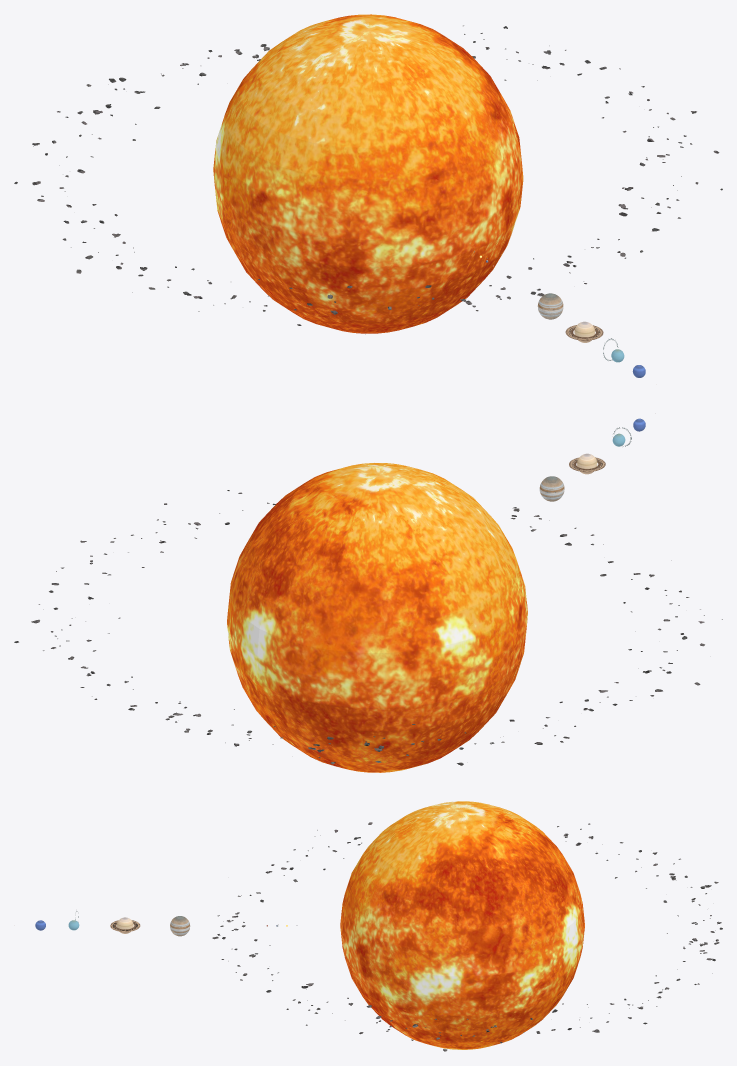
Rendered from solar_system.glb.
3 views of the same model, one above another, from view 1: azimuth 30°, elevation 25°; view 2: azimuth 150°, elevation 25°; view 3: azimuth 270°, elevation 25° (orthographic). The views are drawn at different scales.
Parts seen in each view (by area): view 1: Object_8, Object_28; view 2: Object_8, Object_28; view 3: Object_8, Object_28.
Boxes of the visible parts, x1=… form: Object_8: x1=213, y1=14, x2=523, y2=333; Object_28: x1=14, y1=25, x2=722, y2=334; Object_8: x1=227, y1=463, x2=527, y2=772; Object_28: x1=14, y1=490, x2=722, y2=765; Object_8: x1=340, y1=801, x2=584, y2=1049; Object_28: x1=212, y1=822, x2=722, y2=1051.
Size of the model in its own units: 1593 by 703 by 1990.
15 materials, 15 textured.
